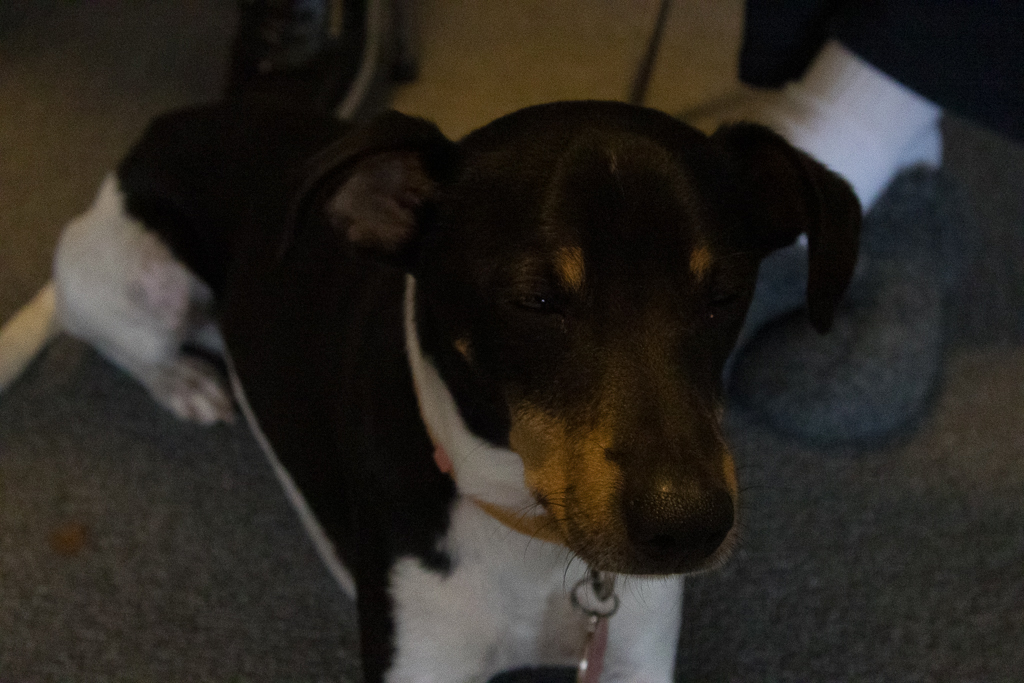Dog: (0, 90, 873, 683)
Humanoid: (675, 0, 1024, 466), (213, 0, 392, 128)
